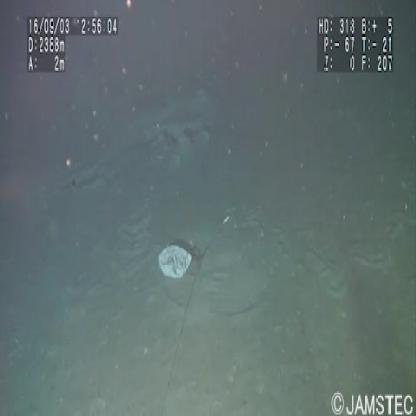Rác: (154, 239, 197, 285)
